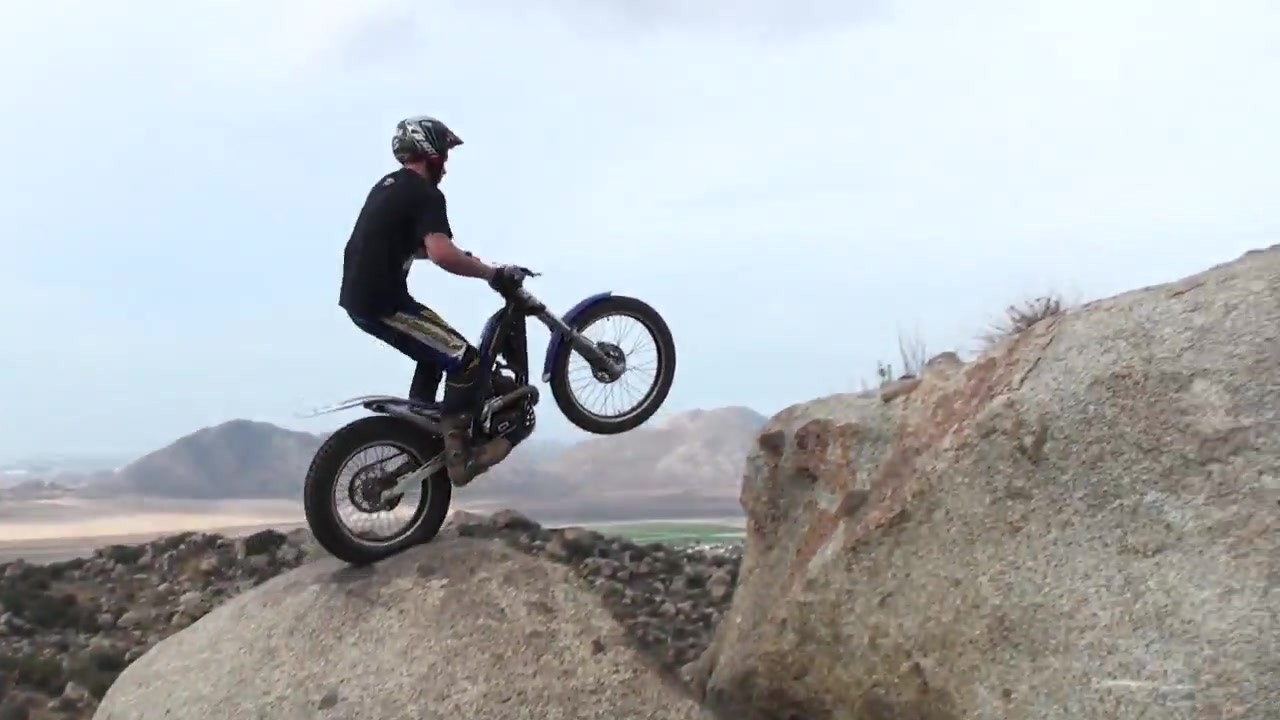motorbike: (299, 262, 678, 568)
